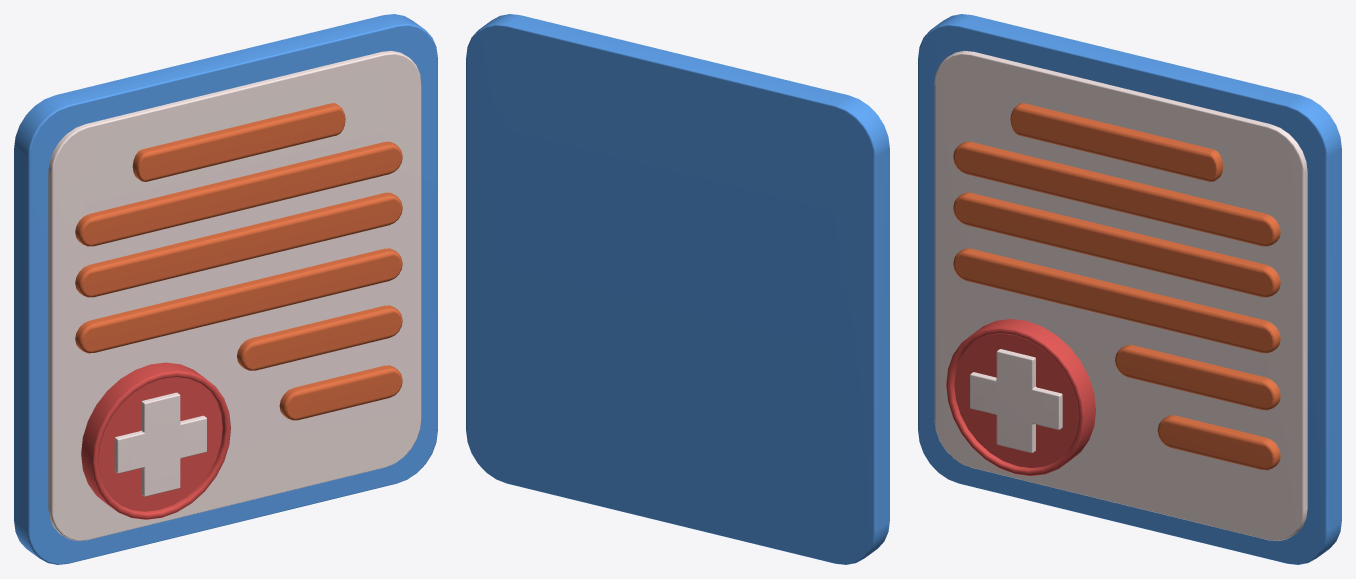
The model's file is Isl_5_Prescription_for_medicine_2.fbx.
3 renders of one model, left to right at view 1: azimuth 30°, elevation 25°; view 2: azimuth 150°, elevation 25°; view 3: azimuth 330°, elevation 25°, orthographic.
Visible parts, largest first — view 1: Isl_5_Prescription_for_medicine_2; view 2: Isl_5_Prescription_for_medicine_2; view 3: Isl_5_Prescription_for_medicine_2.
Boxes of the visible parts, bbox=[...] form: Isl_5_Prescription_for_medicine_2: bbox=[14, 14, 437, 564]; Isl_5_Prescription_for_medicine_2: bbox=[466, 14, 889, 564]; Isl_5_Prescription_for_medicine_2: bbox=[918, 14, 1341, 564].
Size of the model in its own units: 388 by 414 by 55.18.
